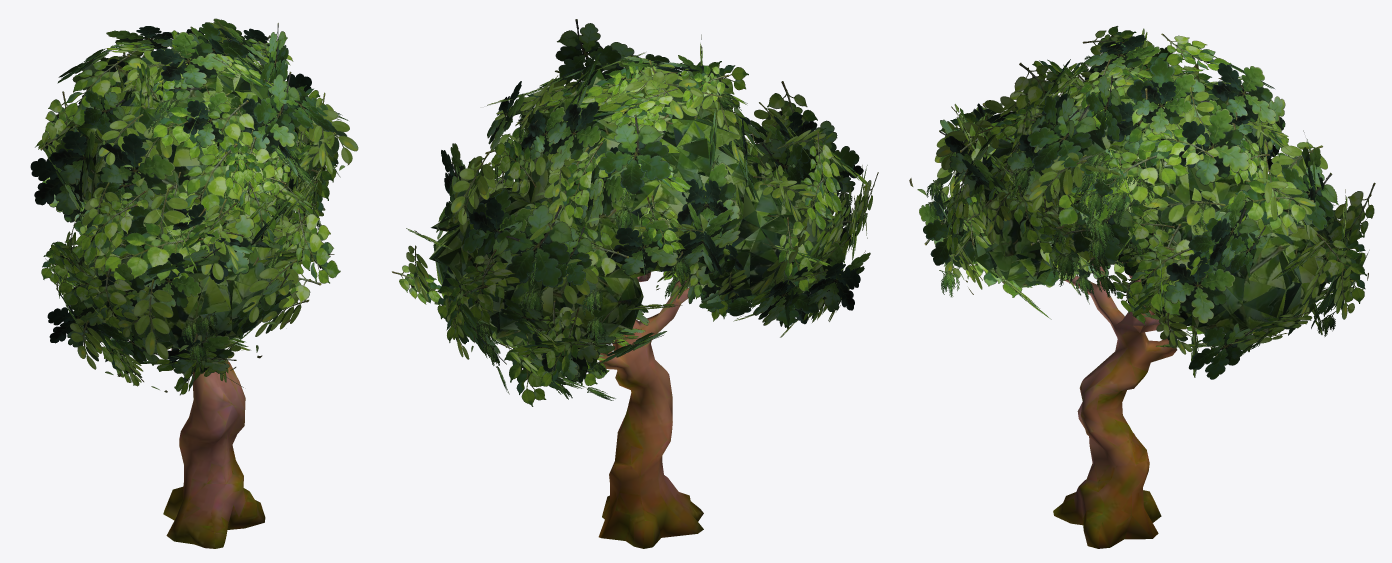
Rendered from oak_5.glb.
The picture shows the model from 3 angles, left to right: view 1: azimuth 30°, elevation 25°; view 2: azimuth 150°, elevation 25°; view 3: azimuth 270°, elevation 25°; orthographic projection.
Parts seen in each view (by area): view 1: Fable_oak_5; view 2: Fable_oak_5; view 3: Fable_oak_5.
Part boxes in pixels (x1=…): Fable_oak_5: x1=30, y1=18, x2=358, y2=548; Fable_oak_5: x1=392, y1=19, x2=878, y2=548; Fable_oak_5: x1=909, y1=26, x2=1375, y2=548.
Size of the model in its own units: 5.42 by 7.01 by 6.11.
Materials: 2 (2 with a texture image).
